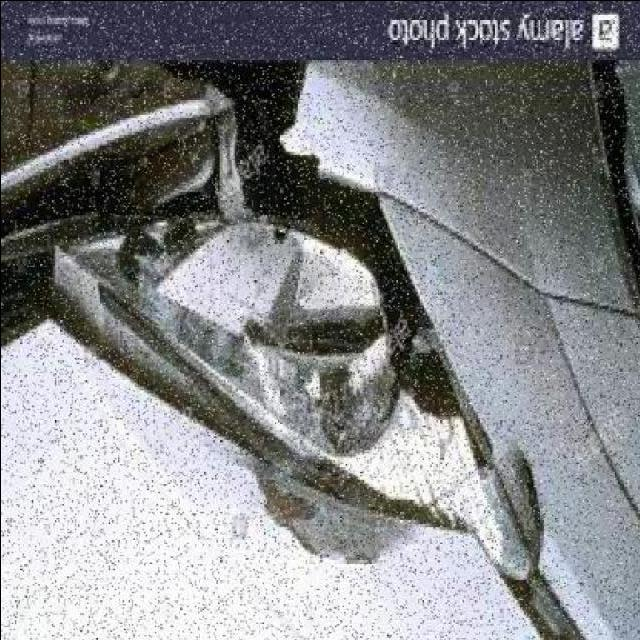Headlight-Damage: (117, 204, 504, 546)
front-bumper-dent: (1, 51, 637, 242)
